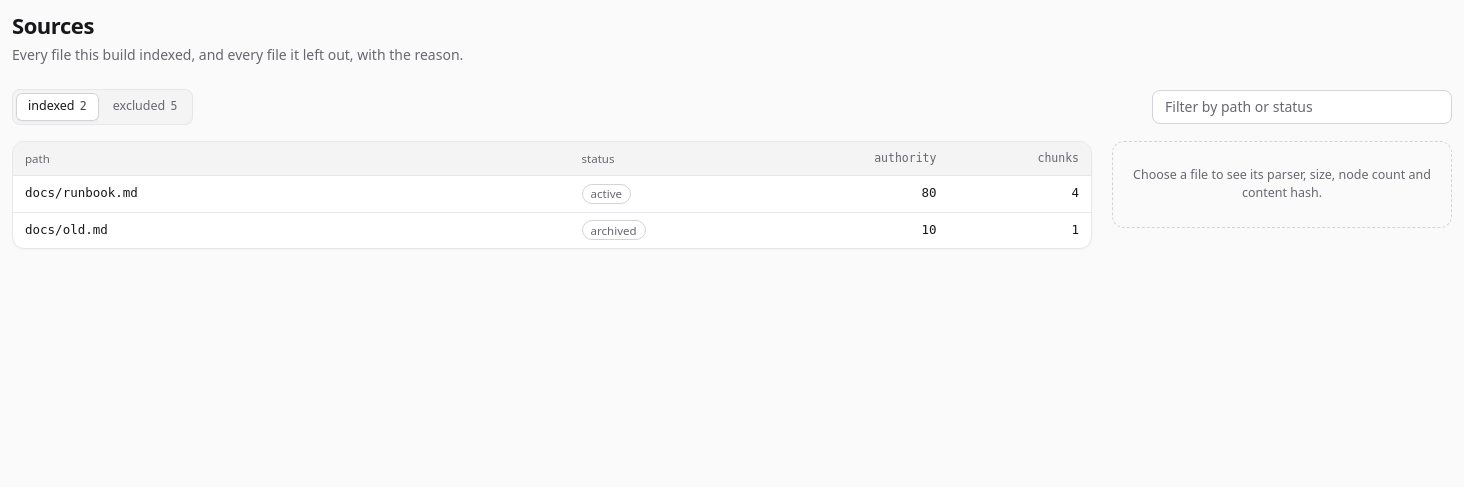
what was not parsed › is one click away, not buried in a collapsed section
This screenshot has width=1464, height=487.
Click the button "excluded 5" at (145, 106), box [101,92,189,120]
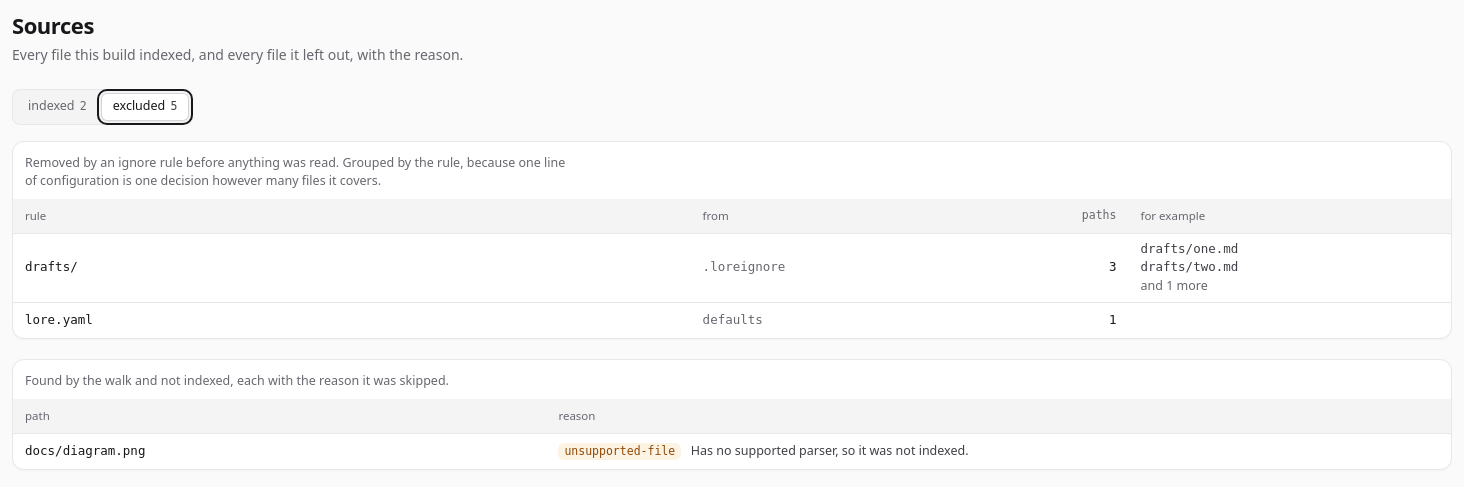
Now the text "docs/diagram.png" is shown, box [13,433,546,469]
Now the text "unsupported-file" is shown, box [558,443,681,460]
